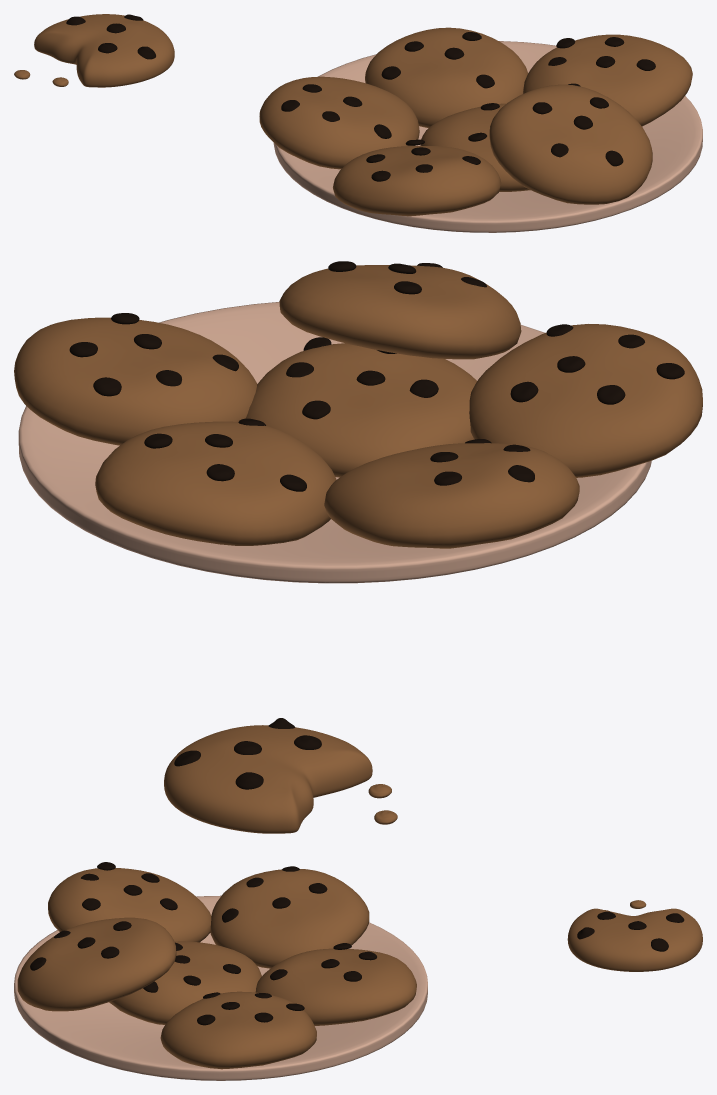
Rendered from cookies.obj.
3 renders of one model, top to bottom at view 1: azimuth 30°, elevation 25°; view 2: azimuth 150°, elevation 25°; view 3: azimuth 270°, elevation 25°, orthographic. The views are drawn at different scales.
Parts seen in each view (by area): view 1: Circle.016, Circle.002, Circle.010, Circle.007, Circle.012, Circle.014, Cube.057, Circle.006, Circle.017, Circle.008, Circle.015, Circle.011 (+2 smaller); view 2: Circle.002, Circle.012, Circle.007, Circle.014, Circle.010, Circle.006, Circle.016, Cube.057, Circle.013, Circle.015, Circle.009, Circle.008 (+3 smaller); view 3: Circle.002, Circle.010, Circle.016, Circle.014, Circle.007, Circle.012, Cube.057, Circle.006, Circle.013, Circle.024, Circle.011, Circle.015 (+3 smaller).
Boxes of the visible parts, x1,y1,x2,y2 form: Circle.016: (489,84,652,204); Circle.002: (273,41,702,232); Circle.010: (259,76,419,169); Circle.007: (365,27,527,127); Circle.012: (333,146,501,216); Circle.014: (523,34,692,126); Cube.057: (34,14,174,87); Circle.006: (420,103,530,191); Circle.017: (532,97,623,166); Circle.008: (381,32,494,88); Circle.015: (548,37,655,86); Circle.011: (281,84,391,138); Circle.002: (18,302,651,583); Circle.012: (469,324,702,477); Circle.007: (95,421,336,545); Circle.014: (14,317,257,445); Circle.010: (324,443,579,548); Circle.006: (245,343,476,477); Circle.016: (279,265,521,359); Cube.057: (164,725,372,833); Circle.013: (510,324,684,404); Circle.015: (69,313,238,396); Circle.009: (286,337,438,419); Circle.008: (144,418,306,491); Circle.002: (14,895,427,1080); Circle.010: (210,869,369,968); Circle.016: (17,917,176,1011); Circle.014: (160,991,316,1069); Circle.007: (255,948,416,1025); Circle.012: (48,868,211,942); Cube.057: (567,908,702,971); Circle.006: (109,941,261,1024); Circle.013: (81,862,177,910); Circle.024: (577,911,684,951); Circle.011: (222,866,327,922); Circle.015: (197,992,304,1025).
Bounding box in the file's own units: 0.6616 × 0.1499 × 0.8928.
